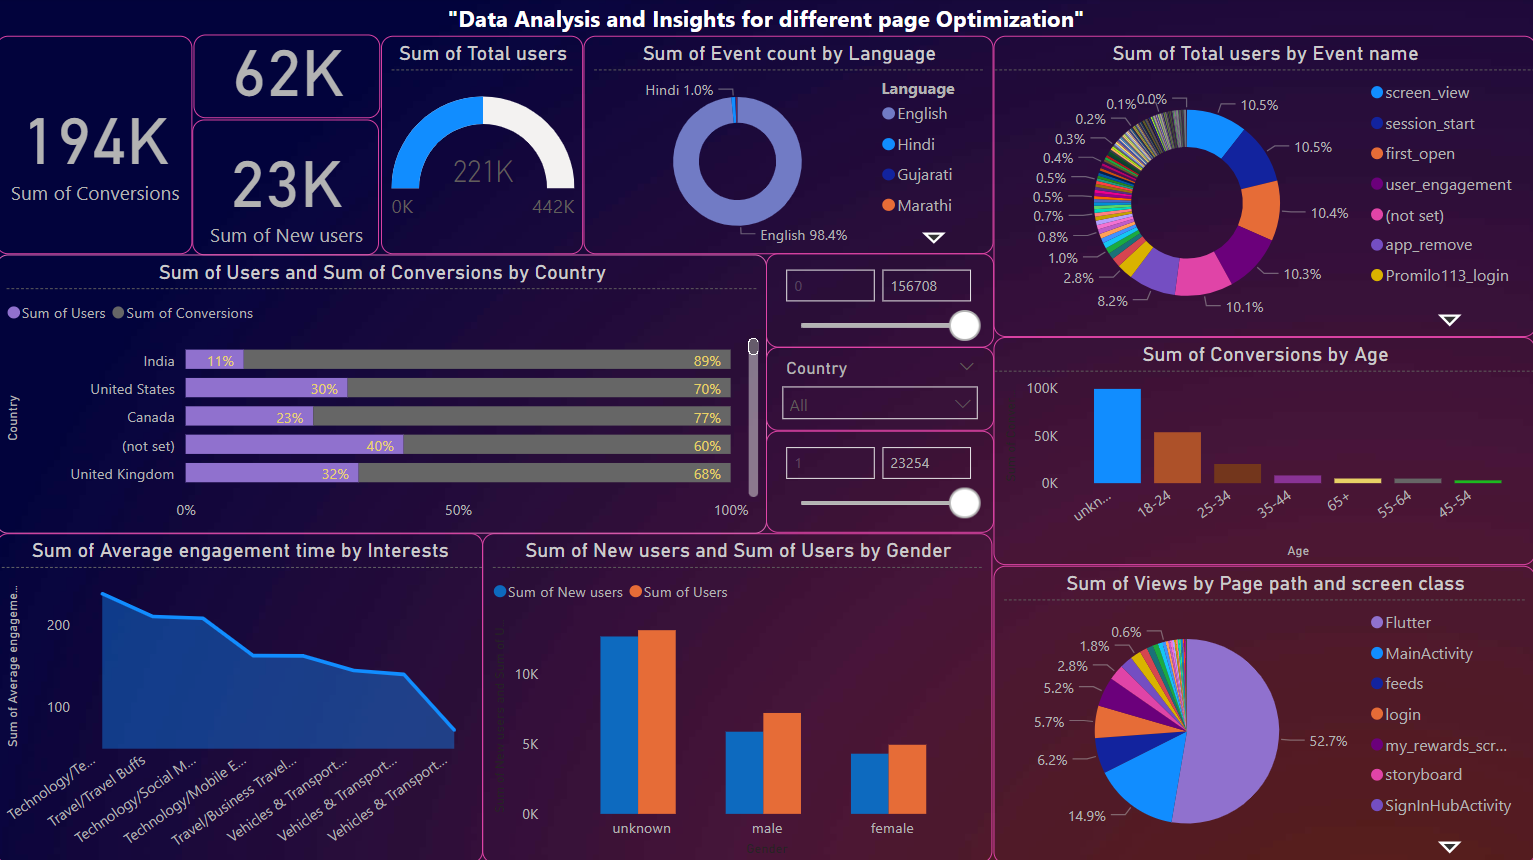

What the dashboard file says about the page in this screenshot:
{"tool":"powerbi","page":{"name":"Page 1","canvas":[1280,720],"ordinal":0},"visuals":[{"type":"card","fields":{"Values":["Citiwise Report.New users"]},"box":[163,101.4,155.3,112.9],"z":0},{"type":"card","fields":{"Values":["Citiwise Report.Conversions"]},"box":[0,32.2,163.1,181.8],"z":1000},{"type":"columnChart","fields":{"Category":["User By Age.Age"],"Y":["User By Age.Conversions"]},"box":[828.6,282.3,450.8,190],"z":2000},{"type":"textbox","box":[0,0,1280,36.4],"z":3000},{"type":"clusteredColumnChart","fields":{"Category":["Gender Report.Gender"],"Y":["Gender Report.New users","Gender Report.Users"]},"box":[404.6,445.4,423.9,274.8],"z":4000},{"type":"donutChart","fields":{"Category":["User by Language.Language"],"Y":["User by Language.Event count"]},"box":[488.3,32.2,340.8,181.8],"z":5000},{"type":"pieChart","fields":{"Category":["Pages & Screens Report.Page path and screen class"],"Y":["Pages & Screens Report.Views"]},"box":[828.6,472.2,450.8,247.9],"z":6000},{"type":"donutChart","fields":{"Category":["Event Report.Event name"],"Y":["Event Report.Total users"]},"box":[829.1,32.2,450.9,250.4],"z":7000},{"type":"hundredPercentStackedBarChart","fields":{"Category":["Demographics Report.Country"],"Y":["Demographics Report.Users","Demographics Report.Conversions"]},"box":[0,213.6,640.8,231.8],"z":8000},{"type":"stackedAreaChart","fields":{"Category":["Table 2 (User By Interest).Interests"],"Y":["Table 2 (User By Interest).Average engagement time"]},"box":[0,445.4,404.6,274.8],"z":9000},{"type":"gauge","fields":{"Y":["Event Report.Total users"]},"box":[320,32.2,168.3,181.8],"z":10000},{"type":"slicer","fields":{"Values":["Demographics Report.Country"]},"box":[640.3,291.3,189.9,69.3],"z":11000},{"type":"slicer","fields":{"Values":["Event Report.Total users"]},"box":[640.3,360.5,189.9,84.7],"z":12000},{"type":"slicer","fields":{"Values":["Pages & Screens Report.Views"]},"box":[640,213,189.9,78.3],"z":13000},{"type":"card","fields":{"Values":["Conversion Report.Total users"]},"box":[164.4,31.5,155.1,70],"z":14000}]}

Visuals, with their boxes in screenshot pixels (x1, y1, x2, y2), scaled from the page's 1280x720 canvas onto the 1533x860 screenshot:
card - Citiwise Report.New users: l=195, t=121, r=381, b=256
card - Citiwise Report.Conversions: l=0, t=38, r=195, b=256
columnChart - User By Age.Age x User By Age.Conversions: l=992, t=337, r=1532, b=564
textbox: l=0, t=0, r=1532, b=43
clusteredColumnChart - Gender Report.Gender x Gender Report.New users: l=485, t=532, r=992, b=859
donutChart - User by Language.Language x User by Language.Event count: l=585, t=38, r=993, b=256
pieChart - Pages & Screens Report.Page path and screen class x Pages & Screens Report.Views: l=992, t=564, r=1532, b=859
donutChart - Event Report.Event name x Event Report.Total users: l=993, t=38, r=1532, b=338
hundredPercentStackedBarChart - Demographics Report.Country x Demographics Report.Users: l=0, t=255, r=767, b=532
stackedAreaChart - Table 2 (User By Interest).Interests x Table 2 (User By Interest).Average engagement time: l=0, t=532, r=485, b=859
gauge - Event Report.Total users: l=383, t=38, r=585, b=256
slicer - Demographics Report.Country: l=767, t=348, r=994, b=431
slicer - Event Report.Total users: l=767, t=431, r=994, b=532
slicer - Pages & Screens Report.Views: l=766, t=254, r=994, b=348
card - Conversion Report.Total users: l=197, t=38, r=383, b=121
